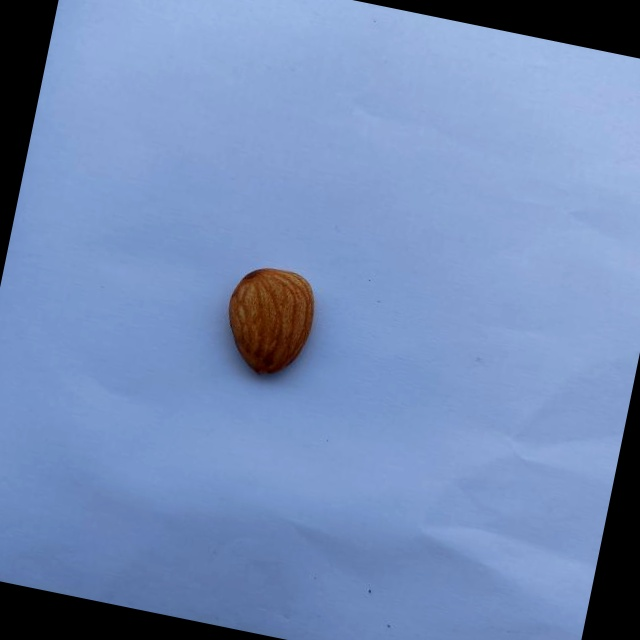grade1: (209, 253, 333, 392)
